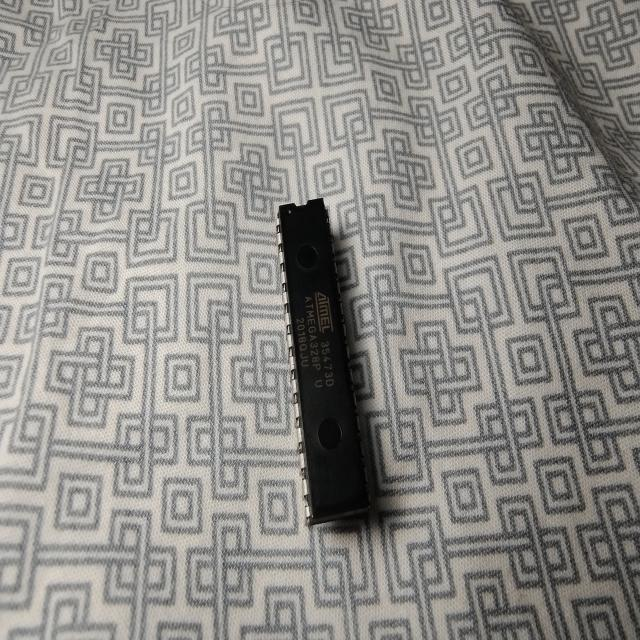atmega: (274, 195, 372, 529)
